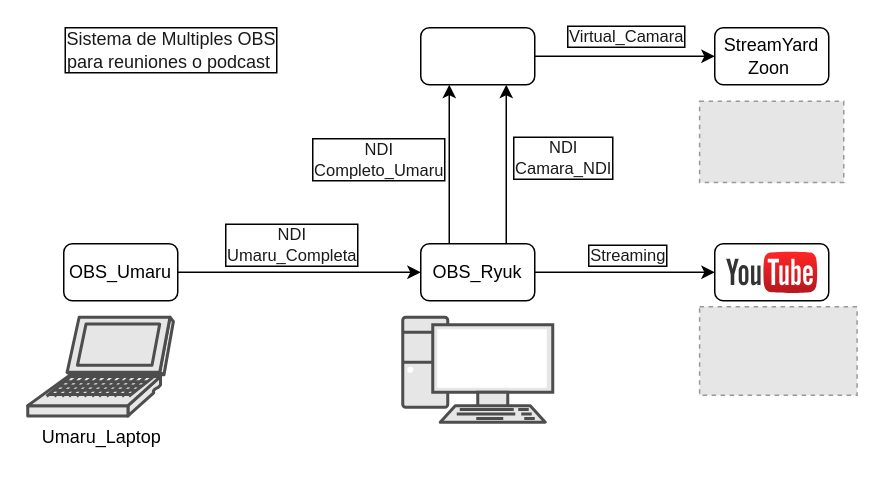
Some shapes in this 884 by 480 pixel diagram are drawn without their labels. Grey dashed boxes stand in for pictures. Here are the shapes that lost their labels. From the top down, the centre of each, then its label:
At pixel 477 55: "OBS_Reunio".
At pixel 477 369: "Ryuk_Escritorio".
